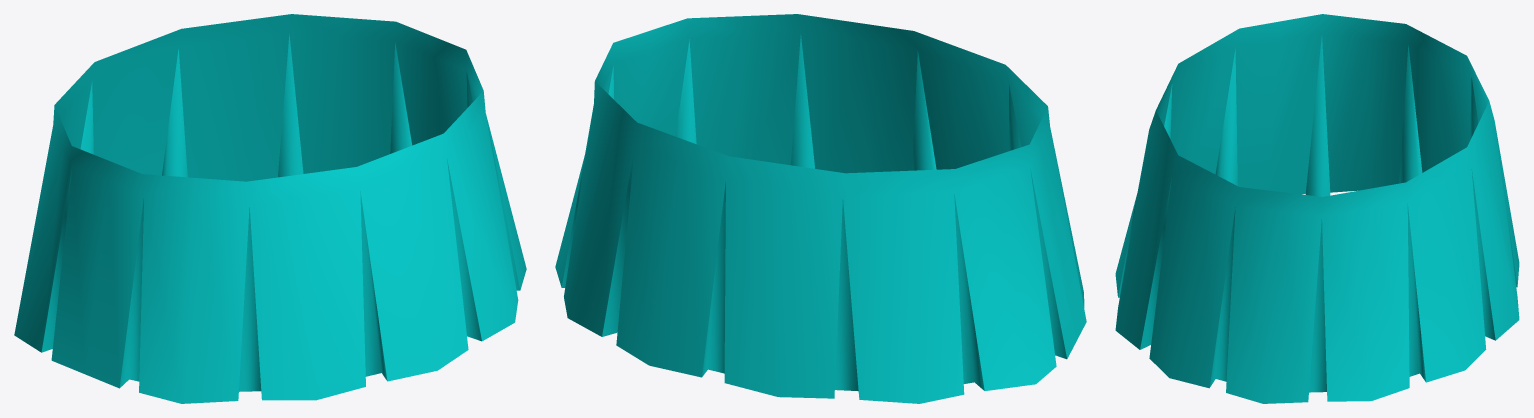
Rendered from Skirt_B (2).fbx.
3 views of the same model, side by side, from view 1: azimuth 30°, elevation 25°; view 2: azimuth 150°, elevation 25°; view 3: azimuth 270°, elevation 25° (orthographic). The views are drawn at different scales.
Parts seen in each view (by area): view 1: Skirt_B; view 2: Skirt_B; view 3: Skirt_B.
Boxes of the visible parts, x1,y1,x2,y2 form: Skirt_B: (14, 14, 526, 403); Skirt_B: (555, 14, 1086, 403); Skirt_B: (1115, 14, 1519, 403).
Bounding box in the file's own units: 121 × 54.14 × 98.13.
